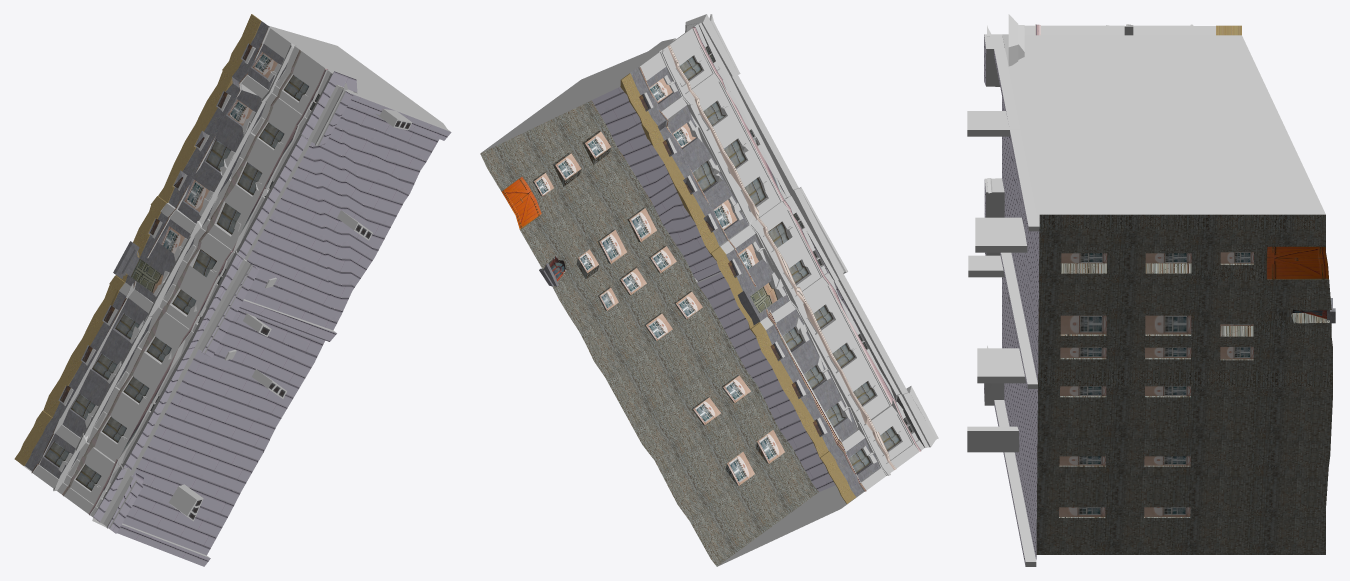
File: Olevimagi_10-origo.obj
3 views of the same model, side by side, from view 1: azimuth 30°, elevation 25°; view 2: azimuth 150°, elevation 25°; view 3: azimuth 270°, elevation 25° (orthographic). The views are drawn at different scales.
Parts seen in each view (by area): view 1: polySurface33; view 2: polySurface33; view 3: polySurface33.
Boxes of the visible parts, x1,y1,x2,y2 form: polySurface33: (14, 14, 451, 566); polySurface33: (480, 14, 938, 566); polySurface33: (967, 14, 1335, 566).
Bounding box in the file's own units: 27.69 × 34 × 17.89.
